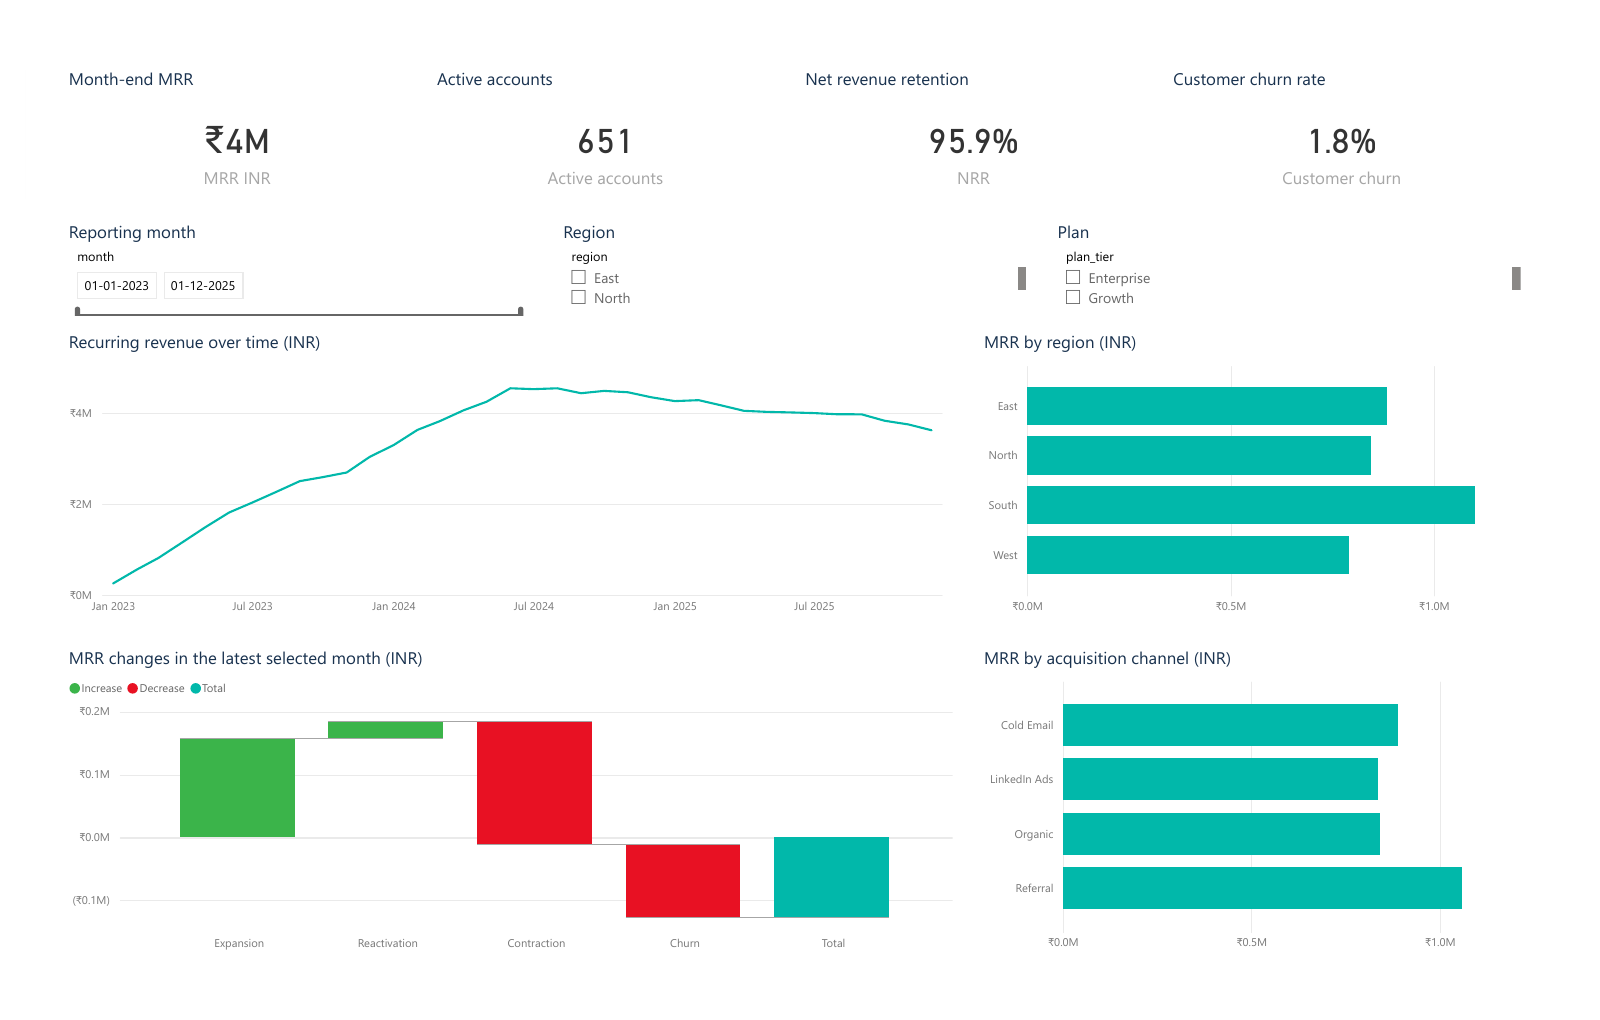

The dashboard page shown, as its layout file describes it:
{"tool":"powerbi","page":{"name":"Revenue and retention","canvas":[1440,900],"ordinal":0},"visuals":[{"type":"card","title":"Month-end MRR","fields":{"Values":["CustomerMonth.MRR INR"]},"box":[20,20,330,135],"z":0},{"type":"card","title":"Active accounts","fields":{"Values":["CustomerMonth.Active accounts"]},"box":[370,20,330,135],"z":0},{"type":"card","title":"Net revenue retention","fields":{"Values":["CustomerMonth.NRR"]},"box":[720,20,330,135],"z":0},{"type":"card","title":"Customer churn rate","fields":{"Values":["CustomerMonth.Customer churn"]},"box":[1070,20,330,135],"z":0},{"type":"slicer","title":"Reporting month","fields":{"Values":["Dates.month"]},"box":[20,165,450,90],"z":0},{"type":"slicer","title":"Region","fields":{"Values":["Customers.region"]},"box":[490,165,450,90],"z":0},{"type":"slicer","title":"Plan","fields":{"Values":["Plans.plan_tier"]},"box":[960,165,450,90],"z":0},{"type":"lineChart","title":"Recurring revenue over time (INR)","fields":{"Category":["Dates.month"],"Y":["CustomerMonth.MRR INR"]},"box":[20,270,850,280],"z":0},{"type":"clusteredBarChart","title":"MRR by region (INR)","fields":{"Category":["Customers.region"],"Y":["CustomerMonth.MRR INR"]},"box":[890,270,530,280],"z":0},{"type":"waterfallChart","title":"MRR changes in the latest selected month (INR)","fields":{"Category":["Bridge.stage"],"Y":["CustomerMonth.MRR change INR"]},"box":[20,570,850,300],"z":0},{"type":"clusteredBarChart","title":"MRR by acquisition channel (INR)","fields":{"Category":["Customers.acquisition_channel"],"Y":["CustomerMonth.MRR INR"]},"box":[890,570,530,300],"z":0}]}

Visuals, with their boxes in screenshot pixels (x1, y1, x2, y2), scaled from the page's 1440x900 canvas onto the 1600x1020 screenshot:
"Month-end MRR" card: {"left": 22, "top": 23, "right": 389, "bottom": 176}
"Active accounts" card: {"left": 411, "top": 23, "right": 778, "bottom": 176}
"Net revenue retention" card: {"left": 800, "top": 23, "right": 1167, "bottom": 176}
"Customer churn rate" card: {"left": 1189, "top": 23, "right": 1556, "bottom": 176}
"Reporting month" slicer: {"left": 22, "top": 187, "right": 522, "bottom": 289}
"Region" slicer: {"left": 544, "top": 187, "right": 1044, "bottom": 289}
"Plan" slicer: {"left": 1067, "top": 187, "right": 1567, "bottom": 289}
"Recurring revenue over time (INR)" lineChart: {"left": 22, "top": 306, "right": 967, "bottom": 623}
"MRR by region (INR)" clusteredBarChart: {"left": 989, "top": 306, "right": 1578, "bottom": 623}
"MRR changes in the latest selected month (INR)" waterfallChart: {"left": 22, "top": 646, "right": 967, "bottom": 986}
"MRR by acquisition channel (INR)" clusteredBarChart: {"left": 989, "top": 646, "right": 1578, "bottom": 986}
